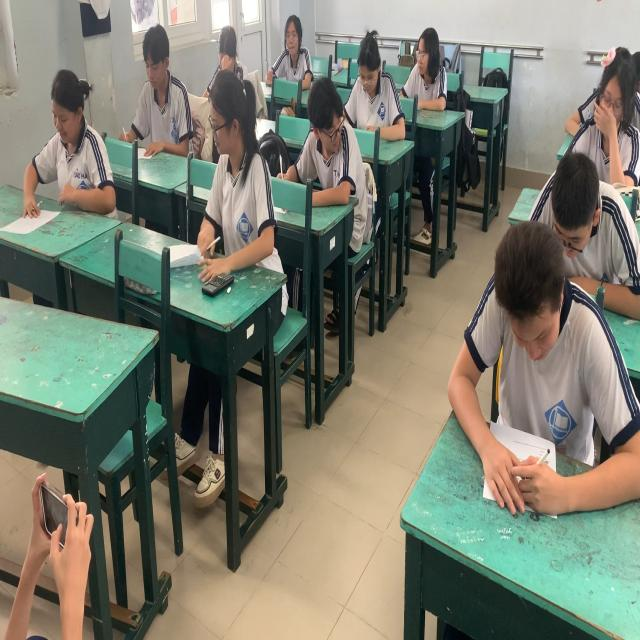cheating: (204, 71, 273, 283), (294, 56, 360, 204)
not_cheating: (477, 218, 607, 510), (540, 144, 638, 264), (38, 59, 111, 218), (575, 34, 640, 192), (136, 21, 192, 158), (351, 18, 396, 137), (406, 16, 444, 120), (209, 18, 250, 108), (274, 4, 310, 91)
